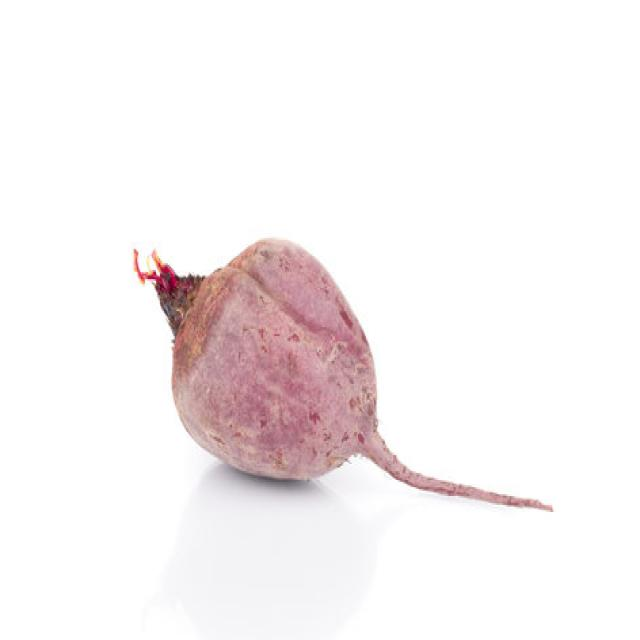Beetroot: (132, 235, 553, 512)
